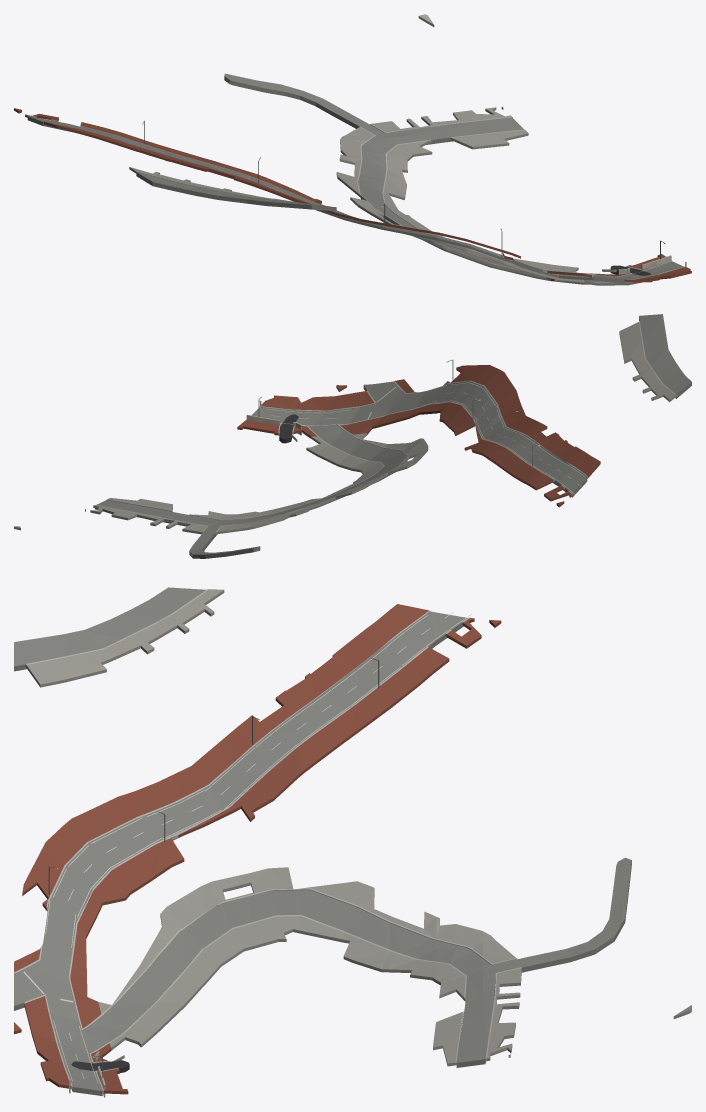
3 renders of one model, top to bottom at view 1: azimuth 30°, elevation 25°; view 2: azimuth 150°, elevation 25°; view 3: azimuth 270°, elevation 25°, orthographic. The views are drawn at different scales.
Bounding box in the file's own units: 148 × 52.79 × 146.
